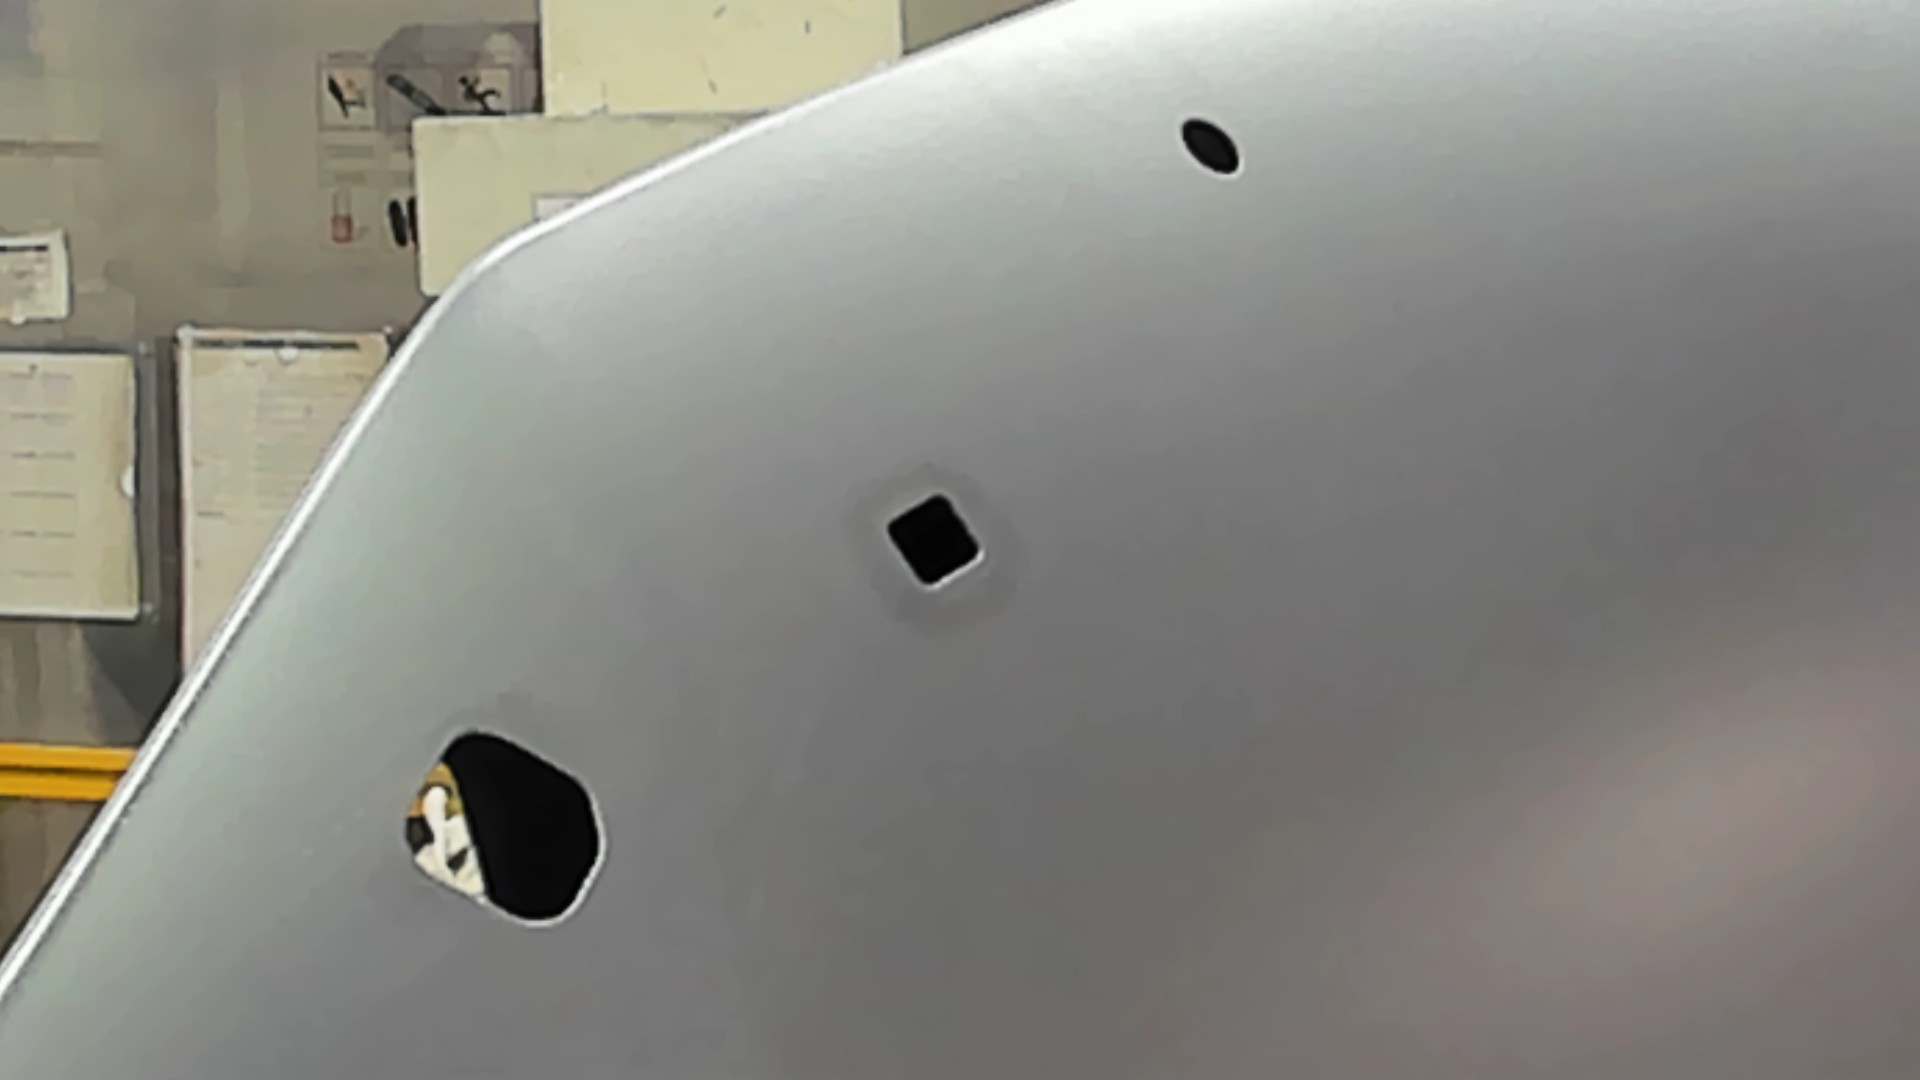chico: (1178, 113, 1245, 183)
grande: (396, 723, 616, 936)
mediano: (876, 487, 988, 595)
